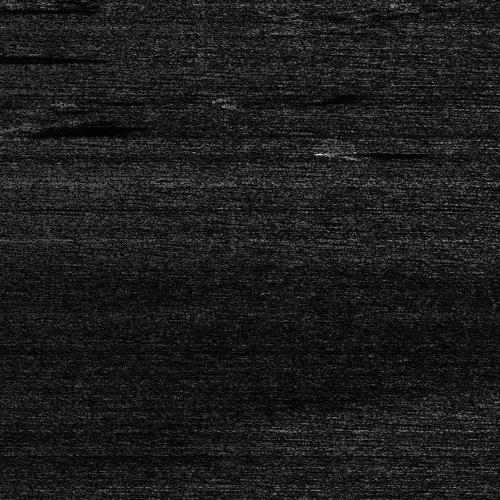rock: (0, 122, 47, 137), (303, 150, 356, 157), (0, 2, 24, 11), (271, 26, 312, 31)
shadow: (16, 122, 133, 137), (0, 51, 99, 60), (0, 2, 88, 11), (292, 26, 375, 31), (330, 150, 388, 157)
